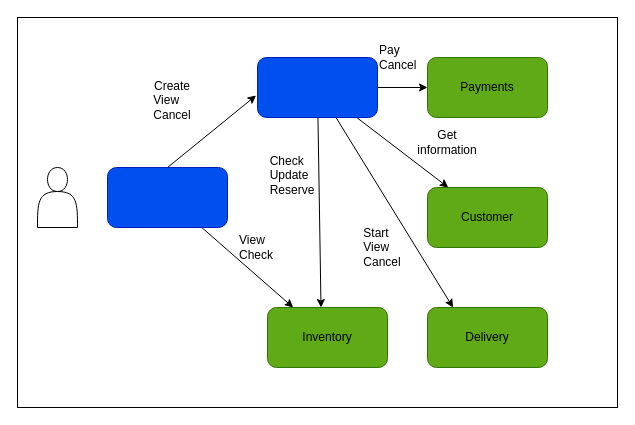
Image size: 635x425. Some labels were removed from this diagram. The shapes that lost their labels are listed below. From the top down, each one's centre as x and y in pixels, then its label:
point (317, 87): Orders
point (167, 197): Web Store
